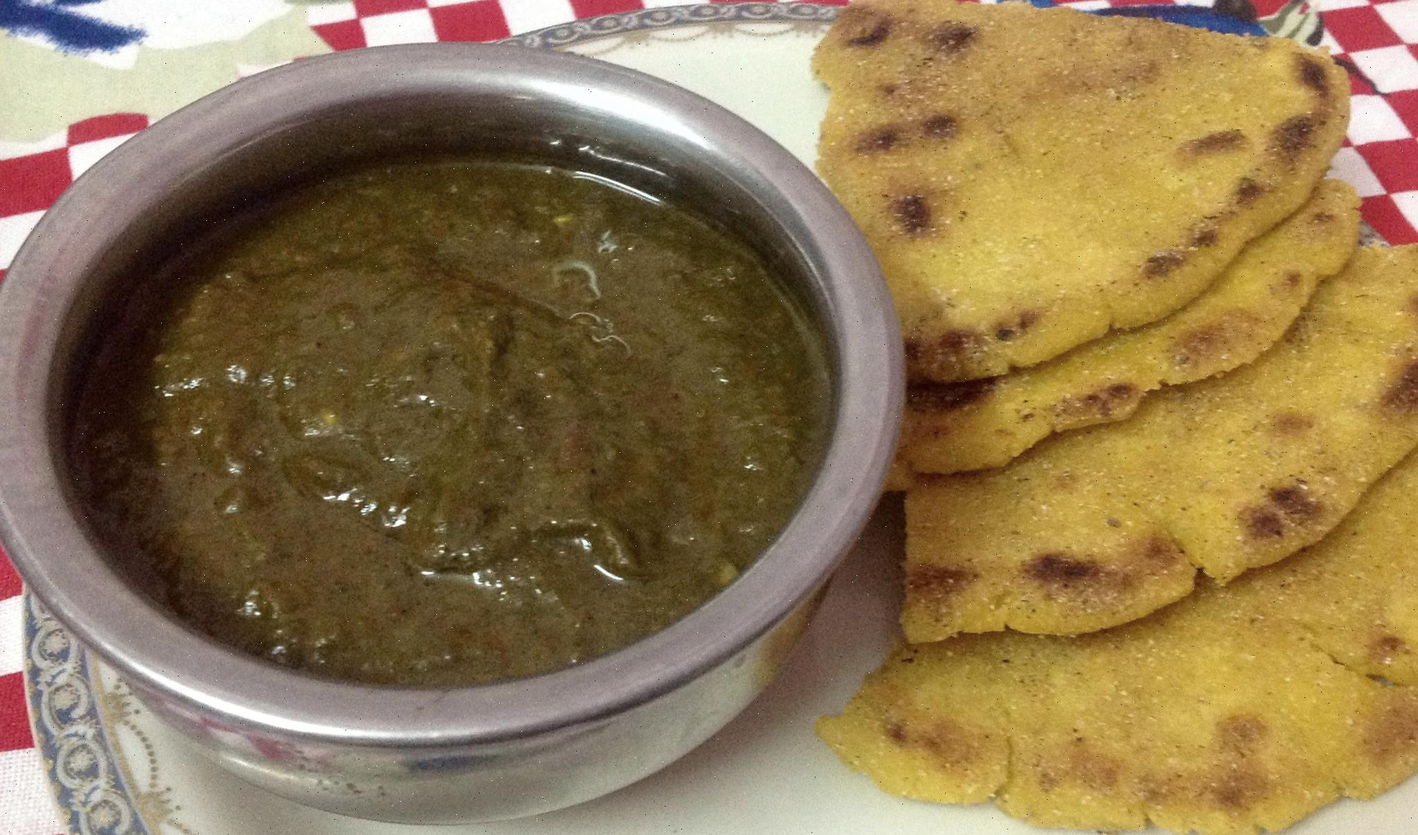saag: (40, 130, 854, 696)
